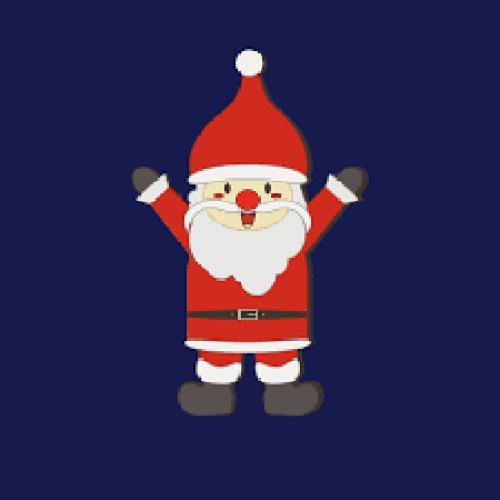Santa: (129, 47, 371, 420), (184, 46, 314, 184)
